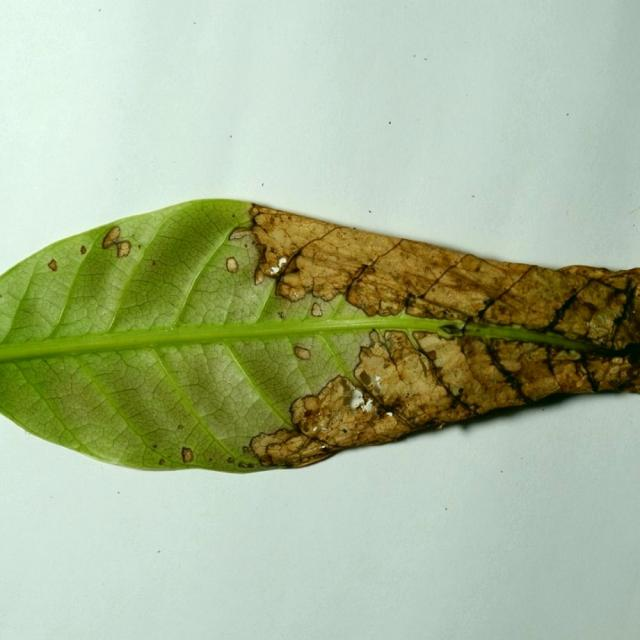Anthracnose: (443, 332, 540, 412), (476, 262, 588, 328), (576, 347, 636, 392), (360, 408, 426, 446), (359, 249, 404, 292), (276, 267, 314, 298), (308, 276, 342, 301), (266, 255, 289, 277), (101, 226, 121, 249), (437, 324, 469, 338), (228, 227, 255, 242), (349, 389, 366, 411), (222, 255, 240, 275), (306, 416, 324, 436), (368, 374, 383, 394), (115, 240, 132, 257), (293, 345, 311, 361), (303, 396, 320, 412), (180, 446, 194, 463), (417, 357, 429, 376), (310, 302, 324, 318), (254, 268, 266, 285), (46, 258, 58, 272), (339, 378, 350, 393), (360, 372, 371, 385), (343, 396, 353, 408), (452, 386, 463, 396), (427, 350, 437, 360), (383, 410, 394, 419), (383, 362, 392, 371), (242, 446, 251, 454), (473, 264, 481, 273), (80, 245, 87, 255), (278, 311, 285, 319), (245, 463, 255, 468), (158, 458, 165, 465), (226, 457, 234, 463), (177, 424, 184, 430), (341, 428, 348, 434), (151, 260, 156, 267), (152, 444, 157, 449), (231, 213, 236, 218), (209, 457, 213, 462), (138, 244, 142, 249), (0, 293, 3, 299)
Mango: (0, 199, 639, 476)
